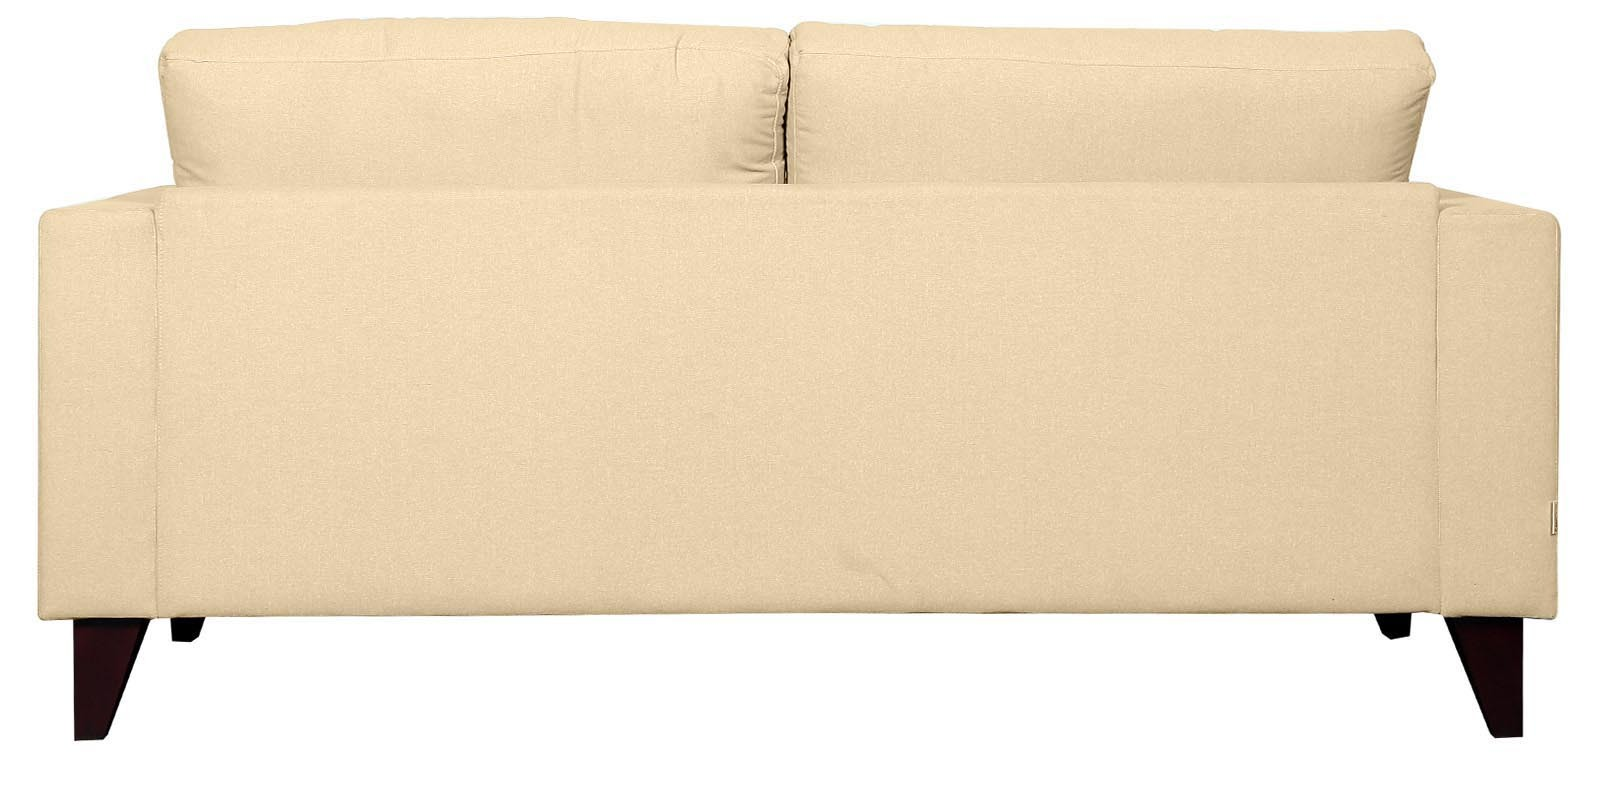Alfredo Three Seater Sofa in Beige Colour by CasaCraft: (30, 2, 1563, 748)
